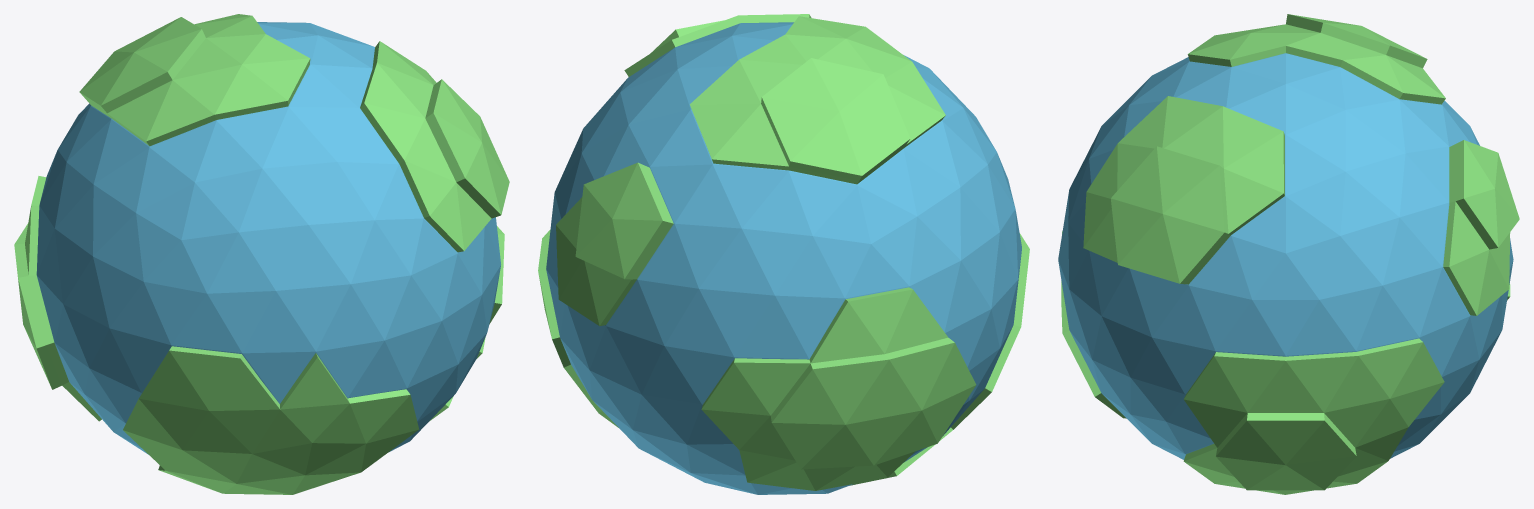
The model's file is Earth.fbx.
3 renders of one model, left to right at view 1: azimuth 30°, elevation 25°; view 2: azimuth 150°, elevation 25°; view 3: azimuth 270°, elevation 25°, orthographic. The views are drawn at different scales.
Visible parts, largest first — view 1: Icosphere.001; view 2: Icosphere.001; view 3: Icosphere.001.
Boxes of the visible parts, <box> form: Icosphere.001: <box>14,14,509,494</box>; Icosphere.001: <box>538,14,1029,494</box>; Icosphere.001: <box>1058,14,1519,494</box>.
Bounding box in the file's own units: 213 × 211 × 209.
